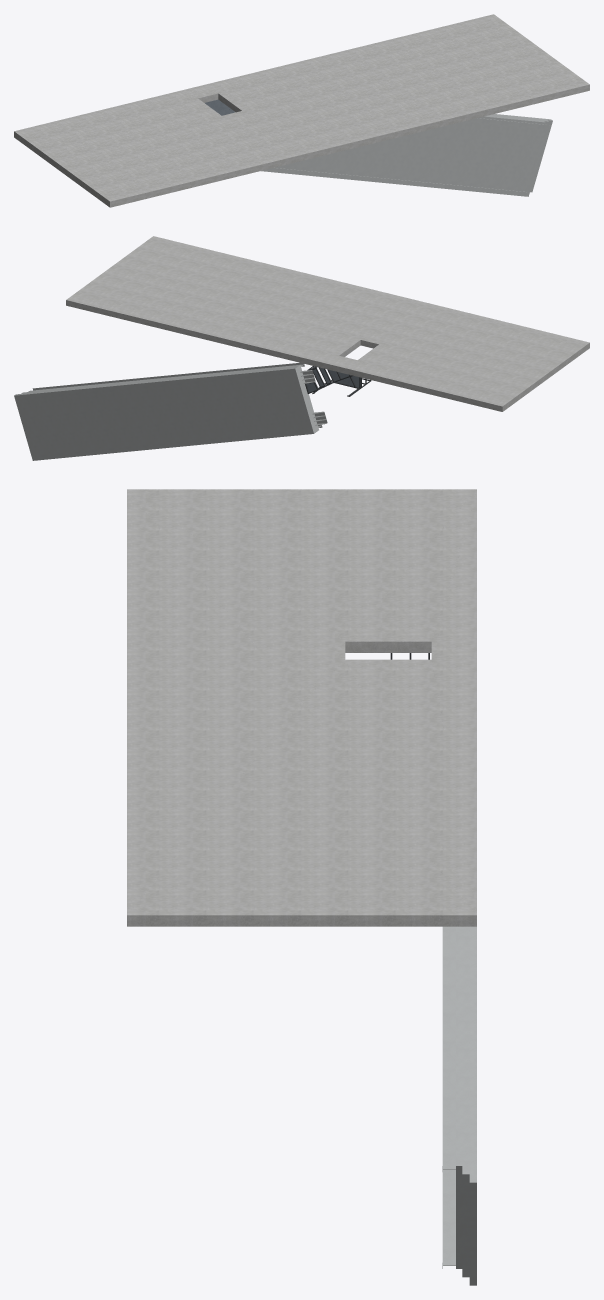
The model's file is escalera-bascula-mwyk8cuf.glb.
3 renders of one model, top to bottom at view 1: azimuth 30°, elevation 25°; view 2: azimuth 150°, elevation 25°; view 3: azimuth 270°, elevation 25°, orthographic. The views are drawn at different scales.
Parts seen in each view (by area): view 1: edifi, bascula; view 2: edifi, bascula; view 3: edifi, bascula.
Boxes of the visible parts, x1,y1,x2,y2 form: edifi: (14, 14, 589, 207); bascula: (235, 112, 552, 196); edifi: (66, 236, 589, 411); bascula: (14, 362, 327, 460); edifi: (127, 489, 476, 926); bascula: (442, 926, 476, 1285).
Bounding box in the file's own units: 27.42 × 9.06 × 8.5.
Materials: 5 (5 with a texture image).
